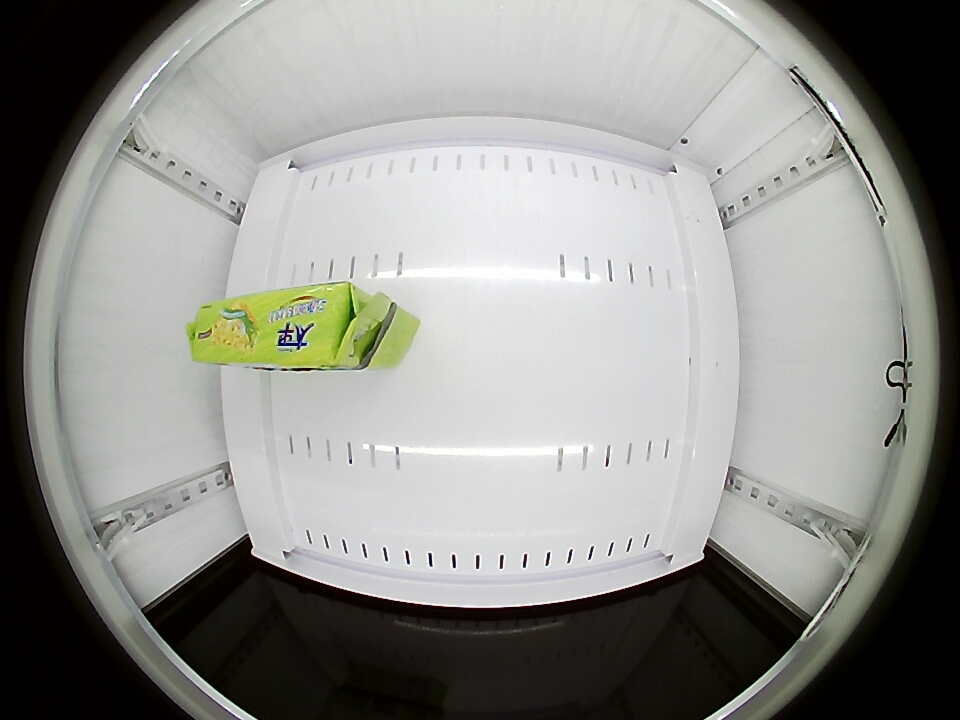taipingshuda: (187, 284, 367, 369)
